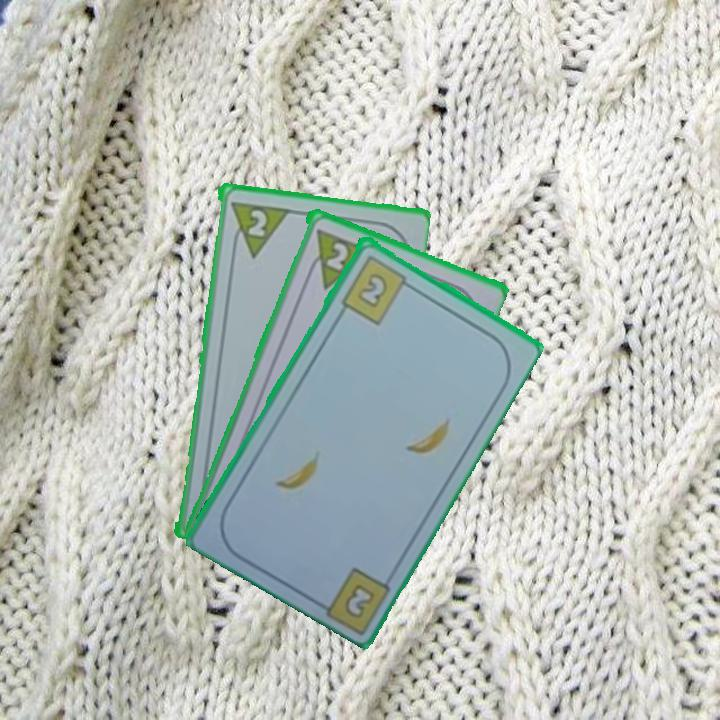2b: (337, 251, 416, 327), (340, 579, 378, 621)
2p: (322, 238, 351, 273), (242, 205, 270, 239)
